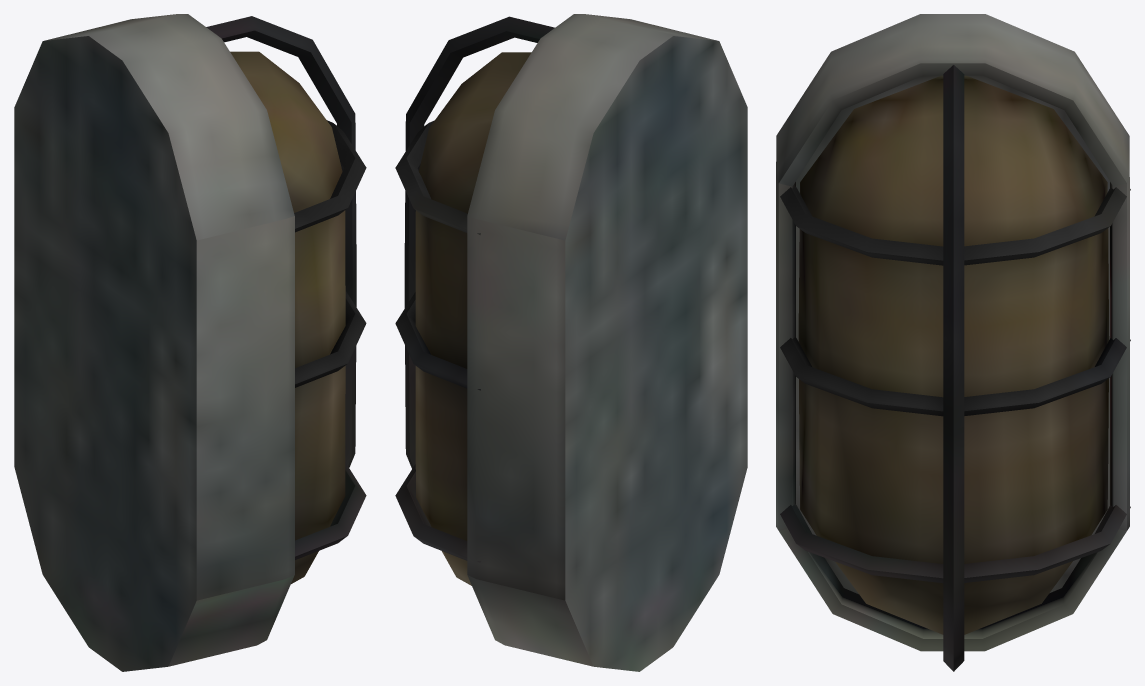
Rendered from Light_Off.FBX.
The picture shows the model from 3 angles, left to right: view 1: azimuth 30°, elevation 25°; view 2: azimuth 150°, elevation 25°; view 3: azimuth 270°, elevation 25°; orthographic projection. The views are drawn at different scales.
Visible parts, largest first — view 1: Light_Off; view 2: Light_Off; view 3: Light_Off.
Boxes of the visible parts, x1,y1,x2,y2 form: Light_Off: [14, 14, 366, 671]; Light_Off: [395, 14, 747, 671]; Light_Off: [776, 14, 1130, 671].
Bounding box in the file's own units: 11.14 × 25.88 × 14.04.
